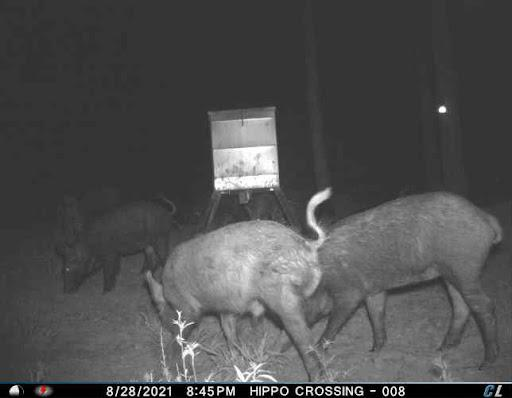Hog: (297, 187, 512, 370), (141, 211, 328, 383), (52, 200, 189, 298)
